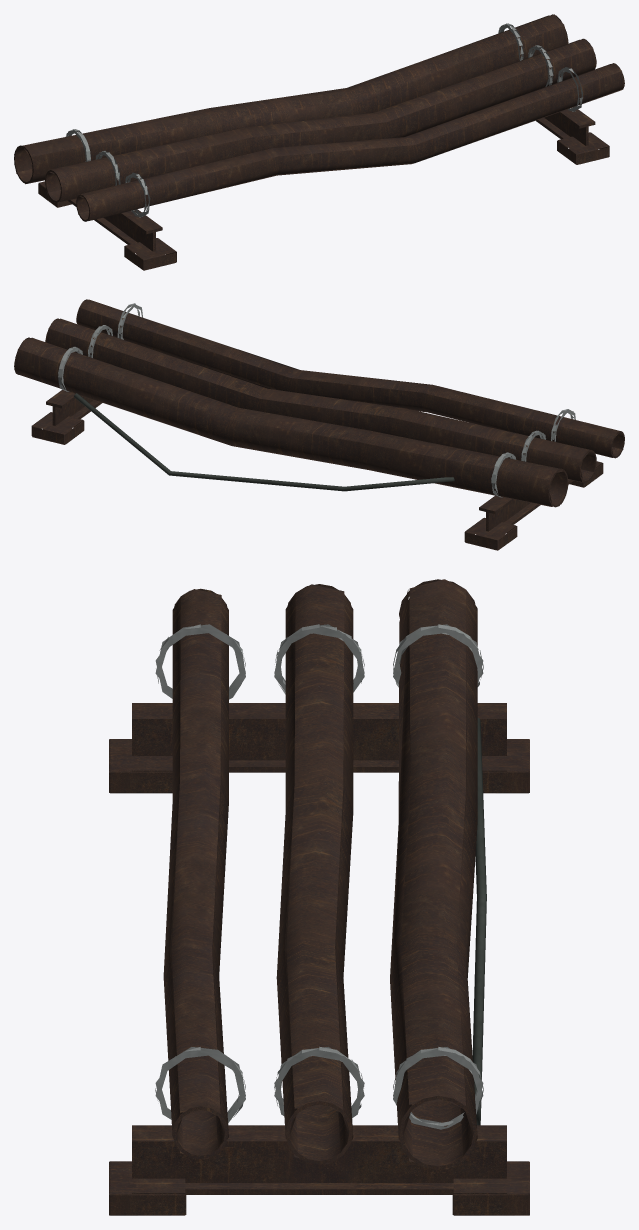
File: lod1_NOT_APPROVED.glb
3 renders of one model, top to bottom at view 1: azimuth 30°, elevation 25°; view 2: azimuth 150°, elevation 25°; view 3: azimuth 270°, elevation 25°, orthographic. The views are drawn at different scales.
Parts seen in each view (by area): view 1: f3_oxidized_iron_surface, f3_bare_worn_steel_surface; view 2: f3_oxidized_iron_surface, f3_aged_rubber_surface, f3_bare_worn_steel_surface; view 3: f3_oxidized_iron_surface, f3_bare_worn_steel_surface, f3_aged_rubber_surface.
Part boxes in pixels (box(x1,y1,x2,y2)): f3_oxidized_iron_surface: box(14, 14, 624, 270); f3_bare_worn_steel_surface: box(65, 23, 583, 217); f3_oxidized_iron_surface: box(14, 299, 624, 550); f3_aged_rubber_surface: box(74, 393, 454, 491); f3_bare_worn_steel_surface: box(58, 303, 575, 497); f3_oxidized_iron_surface: box(109, 579, 529, 1215); f3_bare_worn_steel_surface: box(155, 624, 483, 1129); f3_aged_rubber_surface: box(472, 718, 486, 1125).
Size of the model in its own units: 3.97 by 0.6609 by 1.35.
Materials: 3 (3 with a texture image).
